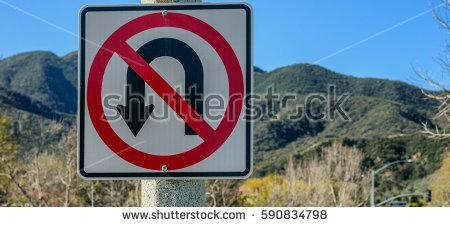no_u_turn: (86, 12, 242, 169)
